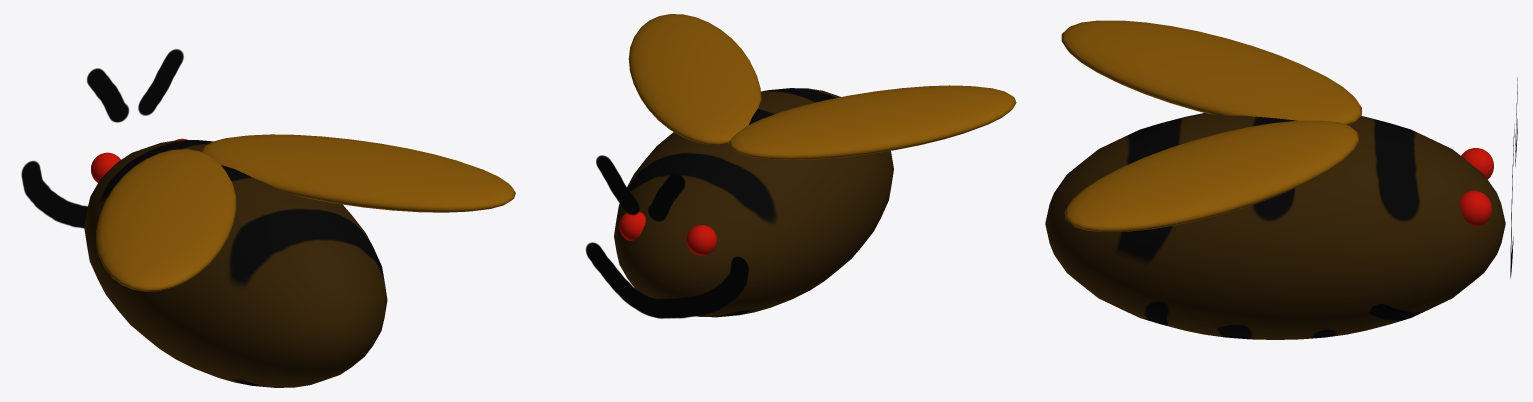
Rendered from fly.glb.
3 views of the same model, side by side, from view 1: azimuth 30°, elevation 25°; view 2: azimuth 150°, elevation 25°; view 3: azimuth 270°, elevation 25° (orthographic). The views are drawn at different scales.
Parts seen in each view (by area): view 1: Sphere, Sphere.004, Sphere.003, Plane, Sphere.002; view 2: Sphere, Sphere.003, Sphere.004, Plane, Sphere.002, Sphere.001; view 3: Sphere, Sphere.004, Sphere.003, Sphere.001, Sphere.002.
Part boxes in pixels (x1,y1,x2,y2): Sphere: (84,140,387,387); Sphere.004: (201,134,515,212); Sphere.003: (96,149,236,291); Plane: (21,49,183,228); Sphere.002: (91,152,120,182); Sphere: (614,88,893,317); Sphere.003: (728,85,1016,159); Sphere.004: (628,14,761,144); Plane: (586,155,748,318); Sphere.002: (686,225,717,255); Sphere.001: (619,211,645,240); Sphere: (1045,113,1505,339); Sphere.004: (1064,120,1358,231); Sphere.003: (1061,20,1361,124); Sphere.001: (1460,190,1491,226); Sphere.002: (1461,148,1493,179).
Bounding box in the file's own units: 2.13 × 1.22 × 2.06.
4 materials, 4 textured.
